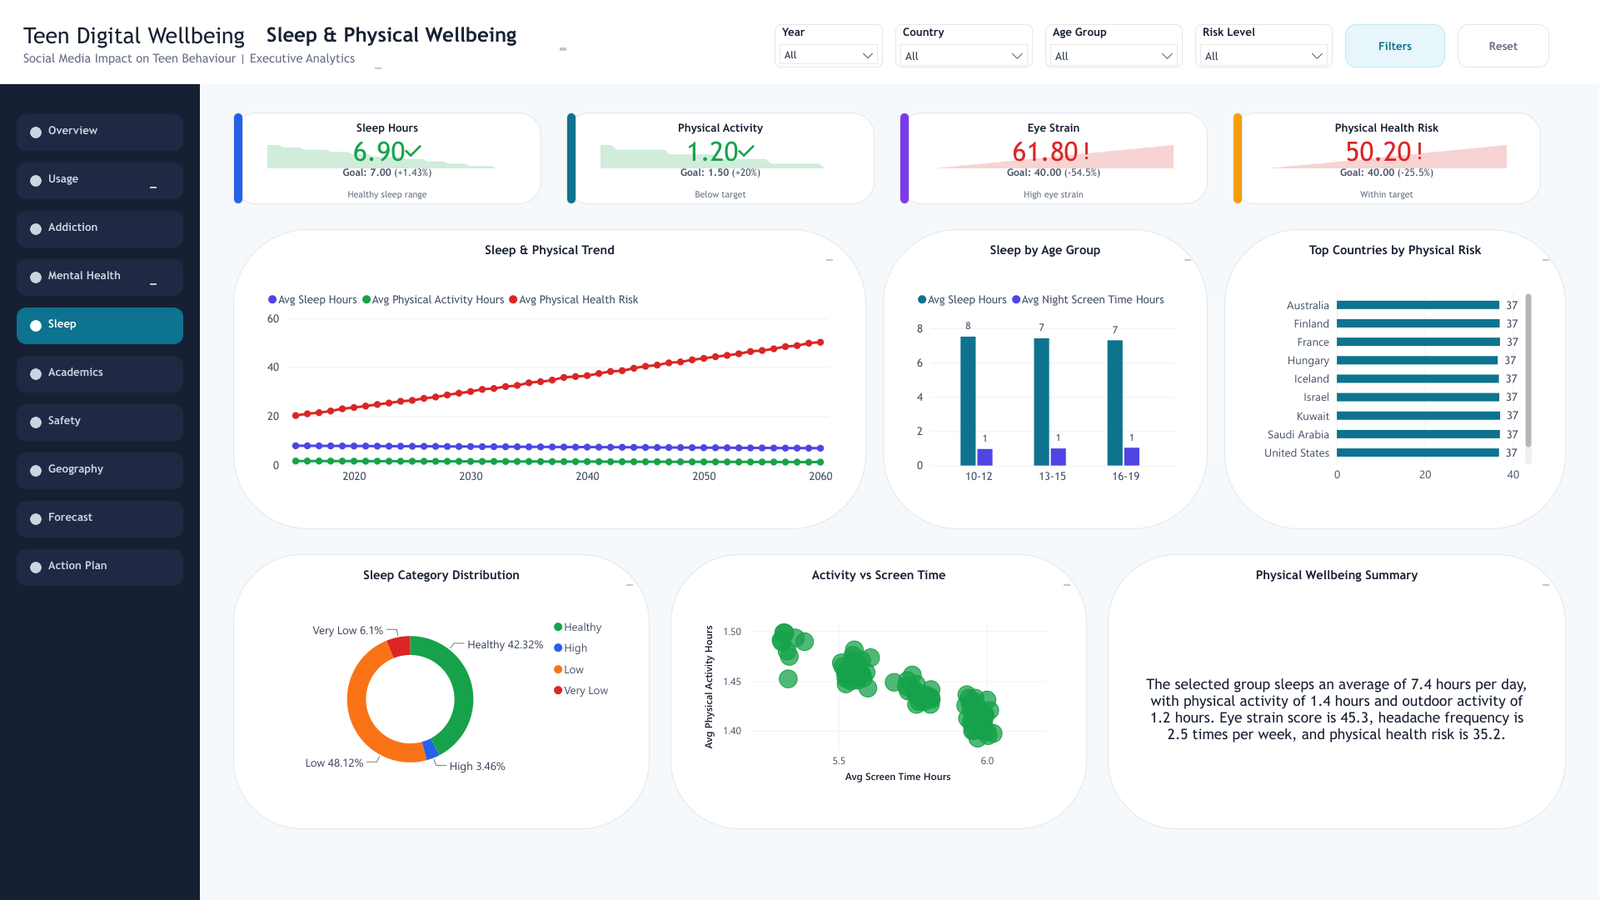

This screenshot's page, from the dashboard's own definition file:
{"tool":"powerbi","page":{"name":"Sleep Wellbeing","canvas":[1920,1080],"ordinal":4},"visuals":[{"type":"shape","title":"SHAPE Header","box":[0,0,1920,96],"z":0},{"type":"textbox","title":"Teen Digital Wellbeing","box":[28,22,360,34],"z":1000},{"type":"textbox","title":"Social Media Impact on Teen Behaviour | Executive Analytics","box":[28,56,430,22],"z":2000},{"type":"textbox","title":"Sleep & Physical Wellbeing","box":[320,22,360,34],"z":3000},{"type":"slicer","title":"SLICER Year","fields":{"Values":["DimDate.Year"]},"box":[930,24,130,52],"z":4000},{"type":"slicer","title":"SLICER Country","fields":{"Values":["DimCountry.country"]},"box":[1075,24,165,52],"z":5000},{"type":"slicer","title":"SLICER Age Group","fields":{"Values":["DimDemographic.age_group"]},"box":[1255,24,165,52],"z":6000},{"type":"slicer","title":"SLICER Risk Level","fields":{"Values":["DimRisk.risk_level"]},"box":[1435,24,165,52],"z":7000},{"type":"shape","title":"BTN Filters","box":[1615,24,120,52],"z":8000},{"type":"shape","title":"BTN Reset","box":[1750,24,110,52],"z":9000},{"type":"shape","title":"SHAPE Left Navigation","box":[0,96,240,984],"z":10000},{"type":"shape","box":[20,132,200,44],"z":11000},{"type":"textbox","title":"Overview","box":[58,143,130,20],"z":12000},{"type":"shape","box":[20,190,200,44],"z":13000},{"type":"shape","box":[20,248,200,44],"z":14000},{"type":"textbox","title":"Usage","box":[58,201,130,20],"z":15000},{"type":"textbox","title":"Addiction","box":[58,259,130,20],"z":16000},{"type":"shape","box":[36,147,14,14],"z":17000},{"type":"shape","box":[36,205,14,14],"z":18000},{"type":"shape","box":[36,263,14,14],"z":19000},{"type":"actionButton","box":[20,132,200,44],"z":20000},{"type":"actionButton","box":[20,190,200,44],"z":21000},{"type":"actionButton","box":[20,246,200,48],"z":22000},{"type":"shape","box":[20,306,200,44],"z":23000},{"type":"shape","box":[20,364,200,44],"z":24000},{"type":"shape","box":[20,422,200,44],"z":25000},{"type":"shape","box":[20,480,200,44],"z":26000},{"type":"shape","box":[20,538,200,44],"z":27000},{"type":"shape","box":[20,596,200,44],"z":28000},{"type":"shape","box":[20,654,200,44],"z":29000},{"type":"textbox","title":"Mental Health","box":[58,317,130,20],"z":32000},{"type":"textbox","title":"Sleep","box":[58,375,130,20],"z":33000},{"type":"textbox","title":"Academics","box":[58,433,130,20],"z":34000},{"type":"textbox","title":"Safety","box":[58,491,130,20],"z":35000},{"type":"textbox","title":"Geography","box":[58,549,130,20],"z":36000},{"type":"textbox","title":"Forecast","box":[58,607,130,20],"z":37000},{"type":"textbox","title":"Action Plan","box":[58,665,130,20],"z":38000},{"type":"shape","box":[36,321,14,14],"z":41000},{"type":"shape","box":[36,379,14,14],"z":42000},{"type":"shape","box":[36,437,14,14],"z":43000},{"type":"shape","box":[36,495,14,14],"z":44000},{"type":"shape","box":[36,553,14,14],"z":45000},{"type":"shape","box":[36,611,14,14],"z":46000},{"type":"shape","box":[36,669,14,14],"z":47000},{"type":"actionButton","box":[20,306,200,44],"z":50000},{"type":"actionButton","box":[20,364,200,44],"z":51000},{"type":"actionButton","box":[20,422,200,44],"z":52000},{"type":"actionButton","box":[20,480,200,44],"z":53000},{"type":"actionButton","box":[20,538,200,44],"z":54000},{"type":"actionButton","box":[20,596,200,44],"z":55000},{"type":"actionButton","box":[20,654,200,44],"z":56000},{"type":"shape","title":"SHAPE KPI Avg Screen Time","box":[280,130,370,110],"z":59000},{"type":"shape","title":"SHAPE KPI Avg Screen Time","box":[680,130,370,110],"z":60000},{"type":"shape","title":"SHAPE KPI Avg Screen Time","box":[1080,130,370,110],"z":61000},{"type":"shape","title":"SHAPE KPI Avg Screen Time","box":[1480,130,370,110],"z":62000},{"type":"shape","title":"SHAPE KPI Avg Screen Time","box":[280,130,12,110],"z":63000},{"type":"shape","title":"SHAPE KPI Avg Screen Time","box":[1480,130,12,110],"z":64000},{"type":"shape","title":"SHAPE KPI Avg Screen Time","box":[1080,130,12,110],"z":65000},{"type":"shape","title":"SHAPE KPI Avg Screen Time","box":[680,130,12,110],"z":66000},{"type":"kpi","fields":{"TrendLine":["DimDate.Year"],"Indicator":["_Measures.Avg Sleep Hours KPI"],"Goal":["_Measures.Sleep Hours Target"]},"box":[305,155,320,58],"z":67000},{"type":"kpi","fields":{"TrendLine":["DimDate.Year"],"Indicator":["_Measures.Avg Physical Health Risk KPI"],"Goal":["_Measures.Physical Health Risk Target"]},"box":[1505,155,320,58],"z":68000},{"type":"kpi","fields":{"TrendLine":["DimDate.Year"],"Indicator":["_Measures.Avg Eye Strain KPI"],"Goal":["_Measures.Eye Strain Target"]},"box":[1105,155,320,58],"z":69000},{"type":"kpi","fields":{"TrendLine":["DimDate.Year"],"Indicator":["_Measures.Avg Physical Activity KPI"],"Goal":["_Measures.Physical Activity Target"]},"box":[705,155,320,58],"z":70000},{"type":"shape","box":[305,138,320,20],"z":71000},{"type":"shape","box":[1505,138,320,20],"z":72000},{"type":"shape","box":[1105,138,320,20],"z":73000},{"type":"shape","box":[705,138,320,20],"z":74000},{"type":"cardVisual","fields":{"Data":["_Measures.Sleep KPI Status"]},"box":[305,218,320,18],"z":75000},{"type":"cardVisual","fields":{"Data":["_Measures.Physical Health Risk KPI Status"]},"box":[1505,218,320,18],"z":76000},{"type":"cardVisual","fields":{"Data":["_Measures.Eye Strain KPI Status"]},"box":[1105,218,320,18],"z":77000},{"type":"cardVisual","fields":{"Data":["_Measures.Physical Activity KPI Status"]},"box":[705,218,320,18],"z":78000},{"type":"shape","box":[280,270,760,360],"z":79000},{"type":"shape","box":[1330,660,550,330],"z":80000},{"type":"shape","box":[805,660,500,330],"z":81000},{"type":"shape","box":[280,660,500,330],"z":82000},{"type":"shape","box":[1470,270,410,360],"z":83000},{"type":"shape","box":[1060,270,390,360],"z":84000},{"type":"textbox","title":"Sleep & Physical Trend","box":[320,286,680,22],"z":85000},{"type":"textbox","title":"Physical Wellbeing Summary","box":[1350,676,510,22],"z":86000},{"type":"textbox","title":"Activity vs Screen Time","box":[825,676,460,22],"z":87000},{"type":"textbox","title":"Sleep Category Distribution","box":[300,676,460,22],"z":88000},{"type":"textbox","title":"Top Countries by Physical Risk","box":[1490,286,370,22],"z":89000},{"type":"textbox","title":"Sleep by Age Group","box":[1080,286,350,22],"z":90000},{"type":"lineChart","fields":{"Category":["DimDate.Year"],"Y":["_Measures.Avg Sleep Hours","_Measures.Avg Physical Activity Hours","_Measures.Avg Physical Health Risk"]},"box":[305,325,710,270],"z":91000},{"type":"clusteredColumnChart","fields":{"Category":["DimDemographic.age_group"],"Y":["_Measures.Avg Sleep Hours","_Measures.Avg Night Screen Time Hours"]},"box":[1085,325,340,270],"z":92000},{"type":"clusteredBarChart","fields":{"Category":["DimCountry.country"],"Y":["_Measures.Avg Physical Health Risk"]},"box":[1495,325,360,270],"z":93000},{"type":"donutChart","fields":{"Y":["_Measures.Teen Records"],"Category":["FactTeenBehaviour.sleep_category"]},"box":[305,720,450,230],"z":94000},{"type":"scatterChart","fields":{"X":["_Measures.Avg Screen Time Hours"],"Y":["_Measures.Avg Physical Activity Hours"],"Size":["_Measures.Teen Records"],"Category":["DimCountry.country"]},"box":[830,720,450,230],"z":95000},{"type":"cardVisual","fields":{"Data":["_Measures.Sleep Physical Page Summary"]},"box":[1360,730,490,230],"z":96000}]}

Visuals, with their boxes in screenshot pixels (x1, y1, x2, y2), scaled from the page's 1920x1080 canvas onto the 1600x900 screenshot:
"SHAPE Header" shape: bbox=(0, 0, 1599, 80)
"Teen Digital Wellbeing" textbox: bbox=(23, 18, 323, 47)
"Social Media Impact on Teen Behaviour | Executive Analytics" textbox: bbox=(23, 47, 382, 65)
"Sleep & Physical Wellbeing" textbox: bbox=(267, 18, 567, 47)
"SLICER Year" slicer: bbox=(775, 20, 883, 63)
"SLICER Country" slicer: bbox=(896, 20, 1033, 63)
"SLICER Age Group" slicer: bbox=(1046, 20, 1183, 63)
"SLICER Risk Level" slicer: bbox=(1196, 20, 1333, 63)
"BTN Filters" shape: bbox=(1346, 20, 1446, 63)
"BTN Reset" shape: bbox=(1458, 20, 1550, 63)
"SHAPE Left Navigation" shape: bbox=(0, 80, 200, 899)
shape: bbox=(17, 110, 183, 147)
"Overview" textbox: bbox=(48, 119, 157, 136)
shape: bbox=(17, 158, 183, 195)
shape: bbox=(17, 207, 183, 243)
"Usage" textbox: bbox=(48, 168, 157, 184)
"Addiction" textbox: bbox=(48, 216, 157, 232)
shape: bbox=(30, 122, 42, 134)
shape: bbox=(30, 171, 42, 182)
shape: bbox=(30, 219, 42, 231)
actionButton: bbox=(17, 110, 183, 147)
actionButton: bbox=(17, 158, 183, 195)
actionButton: bbox=(17, 205, 183, 245)
shape: bbox=(17, 255, 183, 292)
shape: bbox=(17, 303, 183, 340)
shape: bbox=(17, 352, 183, 388)
shape: bbox=(17, 400, 183, 437)
shape: bbox=(17, 448, 183, 485)
shape: bbox=(17, 497, 183, 533)
shape: bbox=(17, 545, 183, 582)
"Mental Health" textbox: bbox=(48, 264, 157, 281)
"Sleep" textbox: bbox=(48, 312, 157, 329)
"Academics" textbox: bbox=(48, 361, 157, 378)
"Safety" textbox: bbox=(48, 409, 157, 426)
"Geography" textbox: bbox=(48, 458, 157, 474)
"Forecast" textbox: bbox=(48, 506, 157, 522)
"Action Plan" textbox: bbox=(48, 554, 157, 571)
shape: bbox=(30, 268, 42, 279)
shape: bbox=(30, 316, 42, 328)
shape: bbox=(30, 364, 42, 376)
shape: bbox=(30, 412, 42, 424)
shape: bbox=(30, 461, 42, 472)
shape: bbox=(30, 509, 42, 521)
shape: bbox=(30, 558, 42, 569)
actionButton: bbox=(17, 255, 183, 292)
actionButton: bbox=(17, 303, 183, 340)
actionButton: bbox=(17, 352, 183, 388)
actionButton: bbox=(17, 400, 183, 437)
actionButton: bbox=(17, 448, 183, 485)
actionButton: bbox=(17, 497, 183, 533)
actionButton: bbox=(17, 545, 183, 582)
"SHAPE KPI Avg Screen Time" shape: bbox=(233, 108, 542, 200)
"SHAPE KPI Avg Screen Time" shape: bbox=(567, 108, 875, 200)
"SHAPE KPI Avg Screen Time" shape: bbox=(900, 108, 1208, 200)
"SHAPE KPI Avg Screen Time" shape: bbox=(1233, 108, 1542, 200)
"SHAPE KPI Avg Screen Time" shape: bbox=(233, 108, 243, 200)
"SHAPE KPI Avg Screen Time" shape: bbox=(1233, 108, 1243, 200)
"SHAPE KPI Avg Screen Time" shape: bbox=(900, 108, 910, 200)
"SHAPE KPI Avg Screen Time" shape: bbox=(567, 108, 577, 200)
kpi - DimDate.Year x _Measures.Avg Sleep Hours KPI: bbox=(254, 129, 521, 178)
kpi - DimDate.Year x _Measures.Avg Physical Health Risk KPI: bbox=(1254, 129, 1521, 178)
kpi - DimDate.Year x _Measures.Avg Eye Strain KPI: bbox=(921, 129, 1188, 178)
kpi - DimDate.Year x _Measures.Avg Physical Activity KPI: bbox=(588, 129, 854, 178)
shape: bbox=(254, 115, 521, 132)
shape: bbox=(1254, 115, 1521, 132)
shape: bbox=(921, 115, 1188, 132)
shape: bbox=(588, 115, 854, 132)
cardVisual - _Measures.Sleep KPI Status: bbox=(254, 182, 521, 197)
cardVisual - _Measures.Physical Health Risk KPI Status: bbox=(1254, 182, 1521, 197)
cardVisual - _Measures.Eye Strain KPI Status: bbox=(921, 182, 1188, 197)
cardVisual - _Measures.Physical Activity KPI Status: bbox=(588, 182, 854, 197)
shape: bbox=(233, 225, 867, 525)
shape: bbox=(1108, 550, 1567, 825)
shape: bbox=(671, 550, 1088, 825)
shape: bbox=(233, 550, 650, 825)
shape: bbox=(1225, 225, 1567, 525)
shape: bbox=(883, 225, 1208, 525)
"Sleep & Physical Trend" textbox: bbox=(267, 238, 833, 257)
"Physical Wellbeing Summary" textbox: bbox=(1125, 563, 1550, 582)
"Activity vs Screen Time" textbox: bbox=(688, 563, 1071, 582)
"Sleep Category Distribution" textbox: bbox=(250, 563, 633, 582)
"Top Countries by Physical Risk" textbox: bbox=(1242, 238, 1550, 257)
"Sleep by Age Group" textbox: bbox=(900, 238, 1192, 257)
lineChart - DimDate.Year x _Measures.Avg Sleep Hours: bbox=(254, 271, 846, 496)
clusteredColumnChart - DimDemographic.age_group x _Measures.Avg Sleep Hours: bbox=(904, 271, 1188, 496)
clusteredBarChart - DimCountry.country x _Measures.Avg Physical Health Risk: bbox=(1246, 271, 1546, 496)
donutChart - _Measures.Teen Records x FactTeenBehaviour.sleep_category: bbox=(254, 600, 629, 792)
scatterChart - _Measures.Avg Screen Time Hours x _Measures.Avg Physical Activity Hours: bbox=(692, 600, 1067, 792)
cardVisual - _Measures.Sleep Physical Page Summary: bbox=(1133, 608, 1542, 800)
